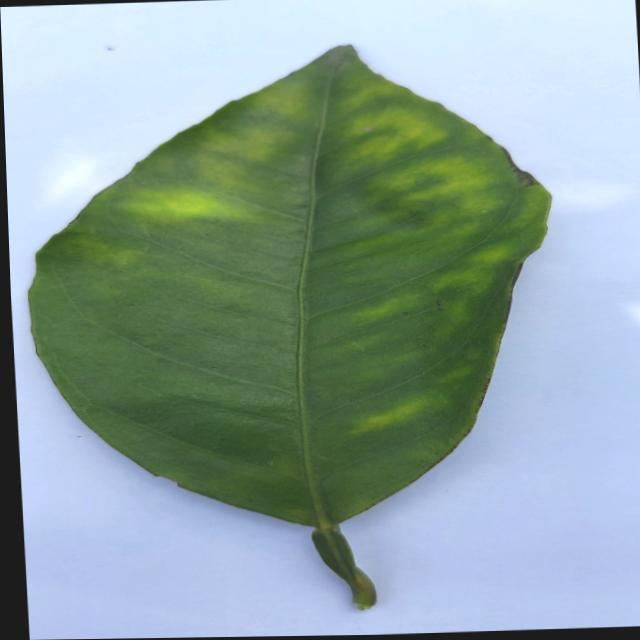greening: (28, 44, 550, 607)
